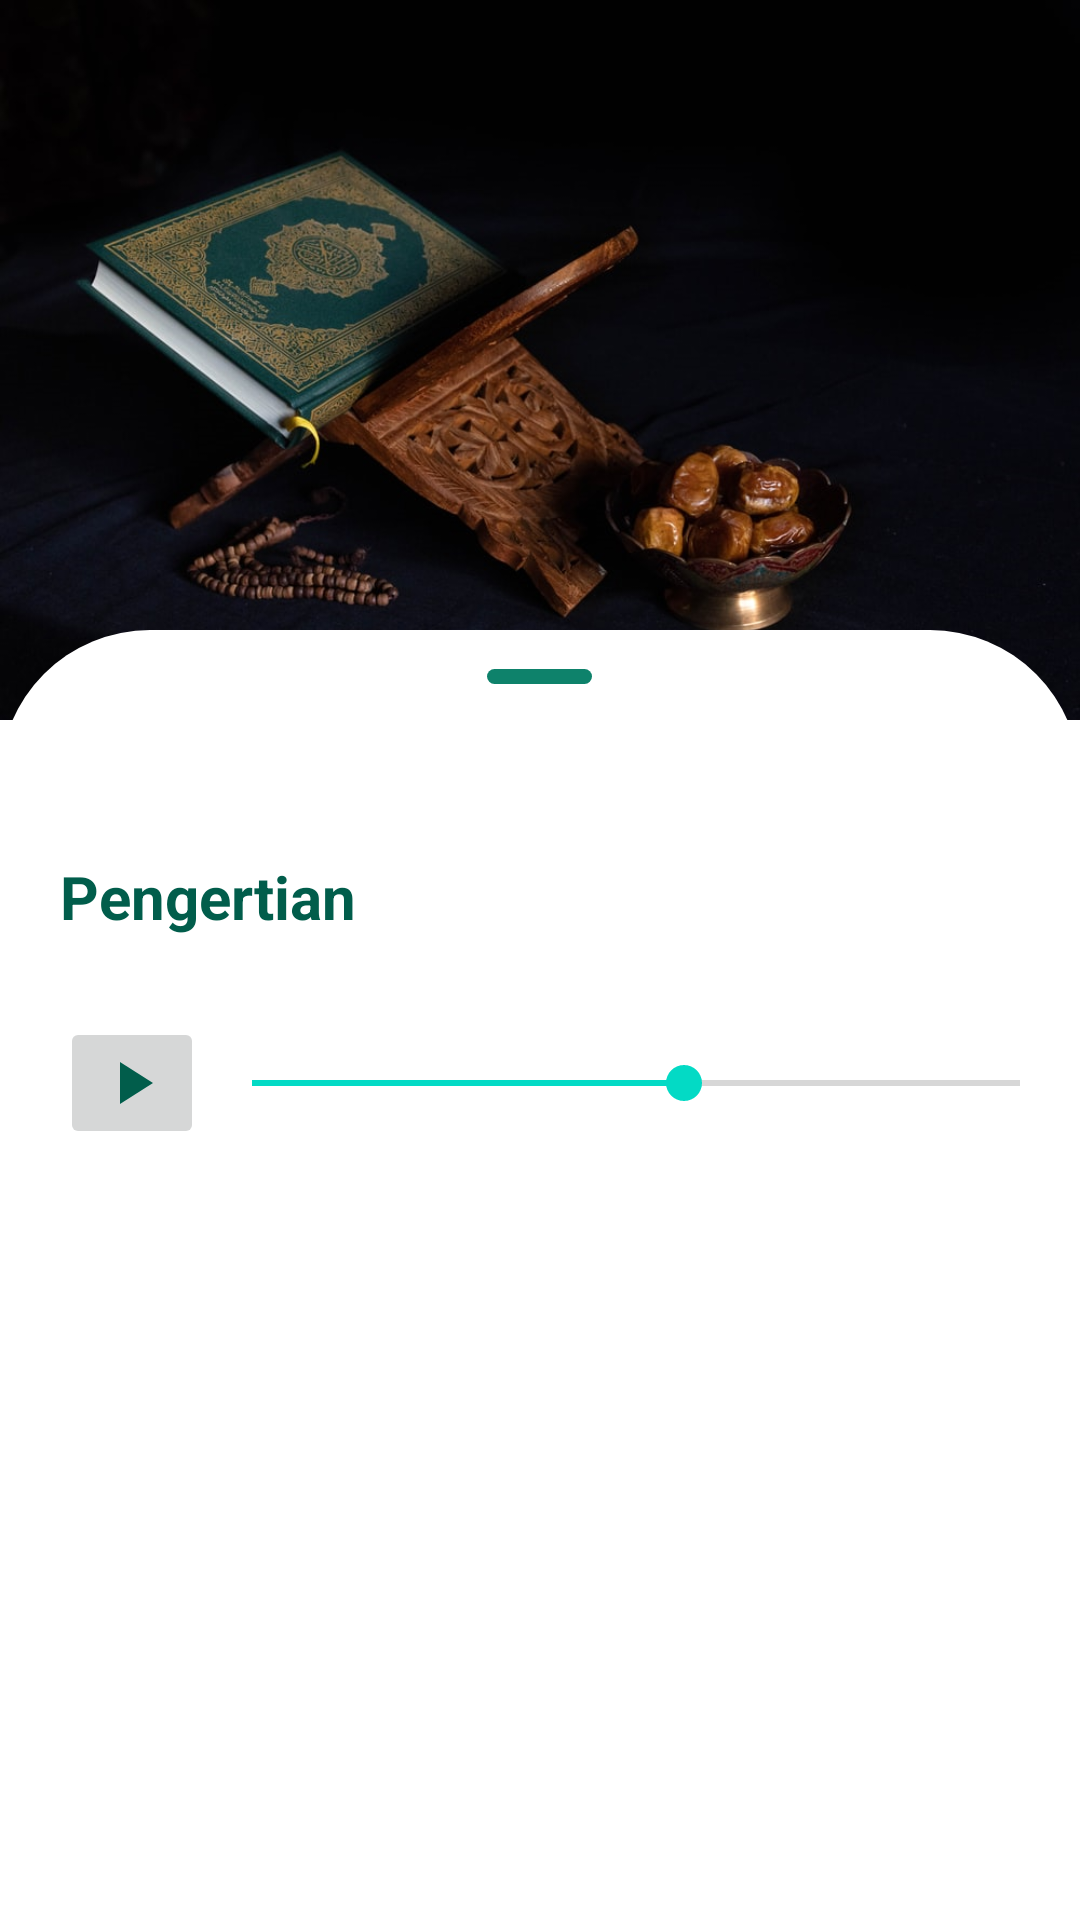

Screen size 1080px×1920px. Icon name, then its box in pixels as bbox=(x1, y1, x2, y2):
play arrow: bbox=(72, 1035, 192, 1131)
